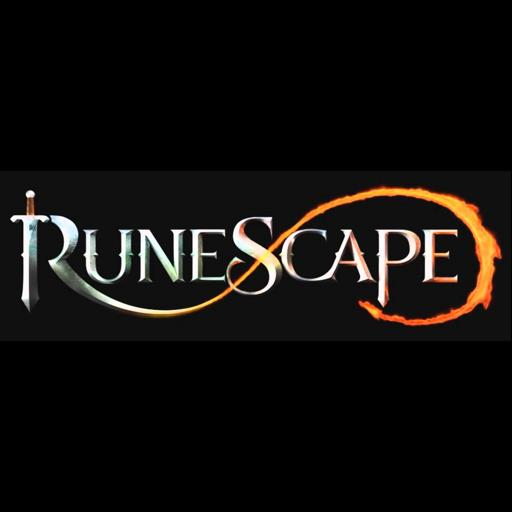RuneScape: (0, 171, 511, 341)
